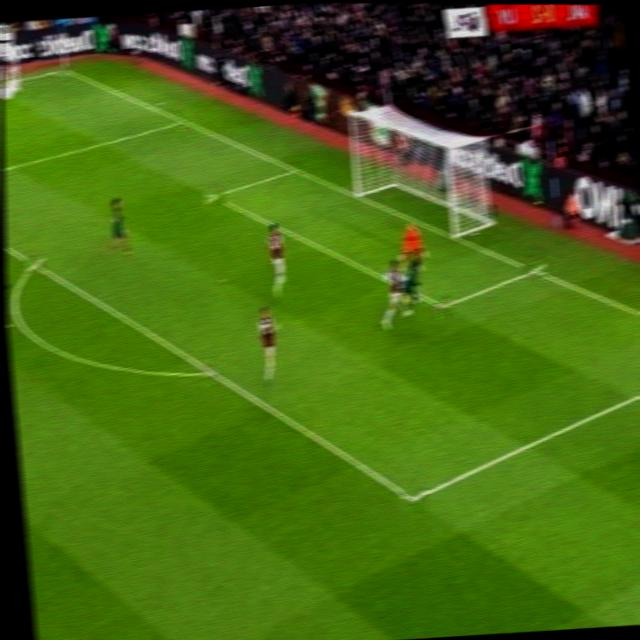bigarea_bottom_inner: (399, 478, 428, 517)
bigarea_top_outter: (171, 108, 193, 130)
bottom_arc_area_intersection: (197, 355, 225, 387)
corner: (51, 59, 75, 77)
smallarea_bottom_inner: (431, 289, 455, 319)
smallarea_bottom_outter: (519, 253, 547, 283)
smallarea_top_inner: (202, 180, 226, 208)
smallarea_top_outter: (283, 156, 307, 181)
top_arc_area_intersection: (23, 250, 45, 273)
